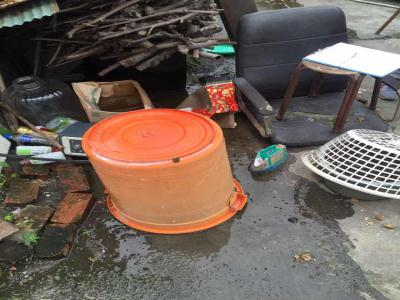bottle: (4, 130, 57, 146), (19, 149, 66, 165), (12, 145, 53, 155)
box: (71, 80, 152, 124)
bucket: (78, 106, 251, 239), (1, 74, 75, 125)
